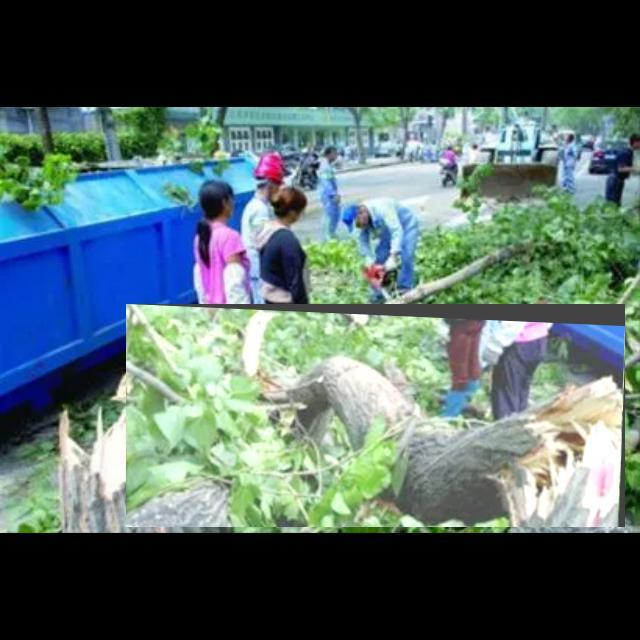fallen_tree: (126, 304, 626, 528)
